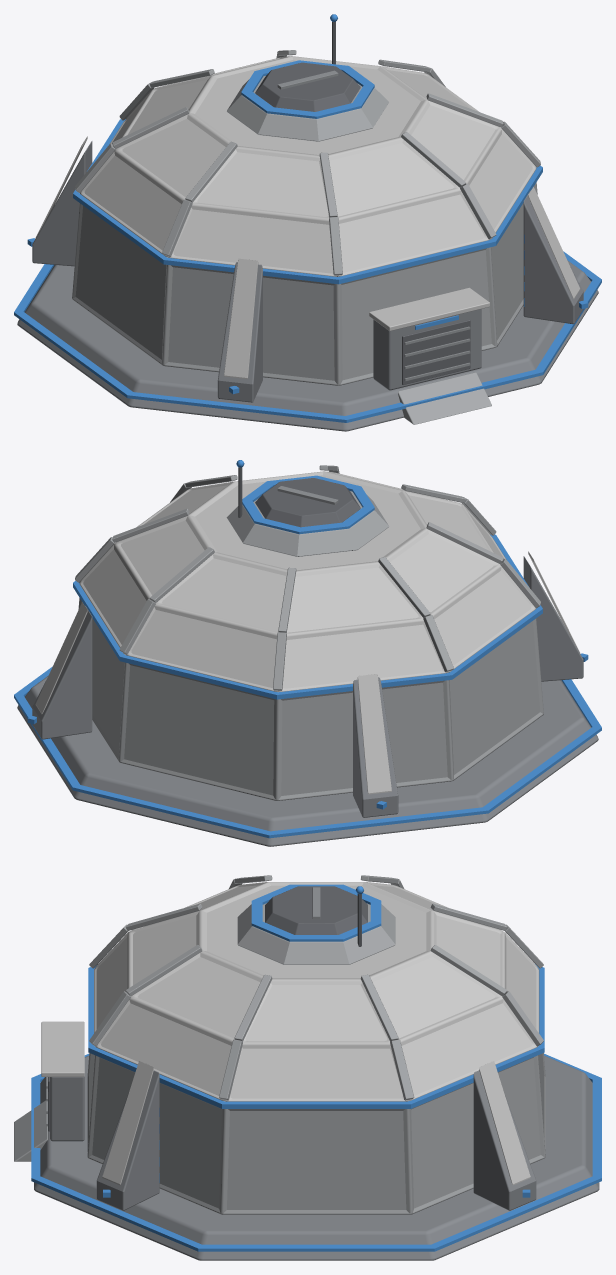
The model's file is lattice_metal_storage.glb.
3 views of the same model, one above another, from view 1: azimuth 30°, elevation 25°; view 2: azimuth 150°, elevation 25°; view 3: azimuth 270°, elevation 25° (orthographic). The views are drawn at different scales.
Visible parts, largest first — view 1: Body; view 2: Body; view 3: Body.
Boxes of the visible parts, x1,y1,x2,y2 form: Body: (14, 14, 601, 431); Body: (14, 460, 601, 846); Body: (14, 875, 601, 1260).
Bounding box in the file's own units: 13.17 × 7.12 × 13.57.
